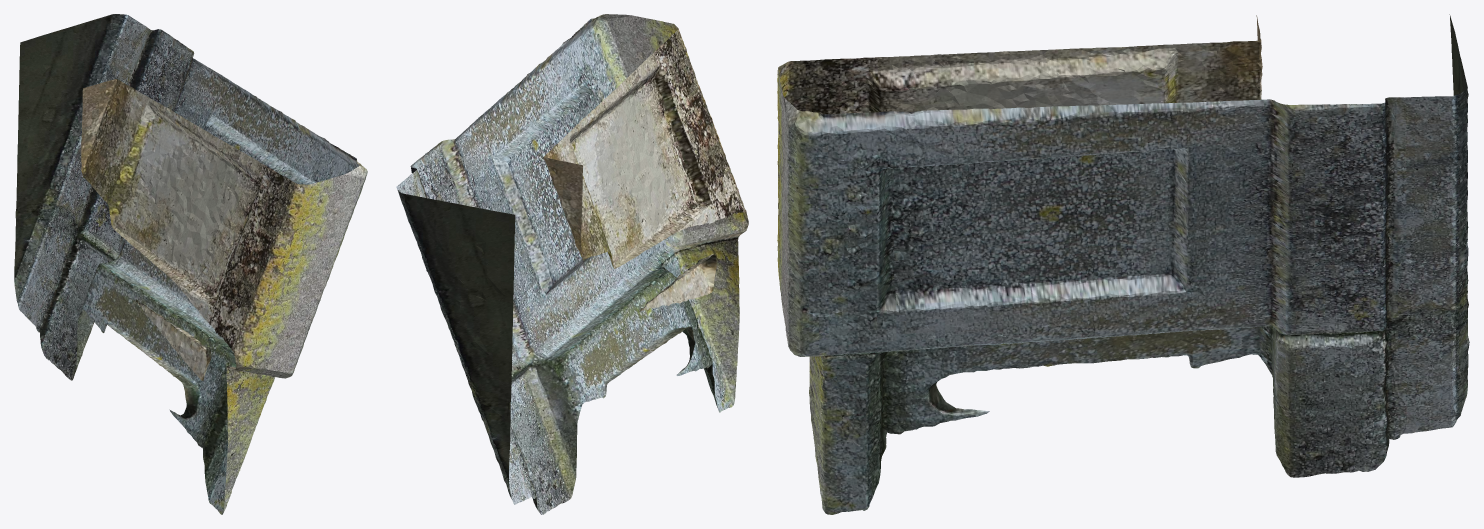
File: Tile_+011_+015.obj
The picture shows the model from 3 angles, left to right: view 1: azimuth 30°, elevation 25°; view 2: azimuth 150°, elevation 25°; view 3: azimuth 270°, elevation 25°; orthographic projection. The views are drawn at different scales.
Size of the model in its own units: 0.5189 by 1.18 by 1.48.
Materials: 1 (1 with a texture image).
